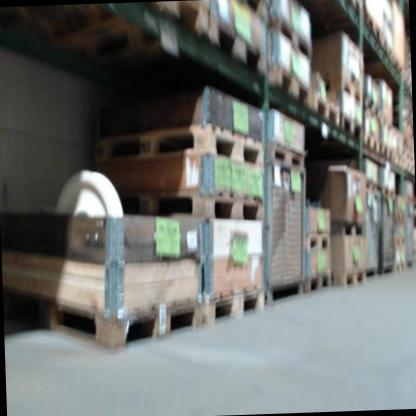pallet: (4, 262, 207, 356), (88, 119, 310, 178), (105, 186, 269, 224), (122, 2, 215, 57), (211, 20, 265, 84), (263, 59, 310, 116), (209, 284, 268, 328), (272, 13, 316, 62), (320, 72, 365, 106), (309, 93, 339, 135), (303, 268, 336, 296), (223, 0, 271, 19), (321, 0, 362, 20), (332, 268, 370, 288), (364, 11, 383, 48), (330, 220, 366, 239), (358, 132, 384, 158), (341, 115, 361, 146), (303, 228, 333, 247), (363, 95, 383, 120), (383, 35, 396, 69), (365, 175, 378, 194), (380, 186, 395, 199), (396, 263, 407, 274)
stillage: (258, 153, 316, 311), (357, 181, 384, 279), (376, 188, 399, 275), (402, 200, 416, 267)
